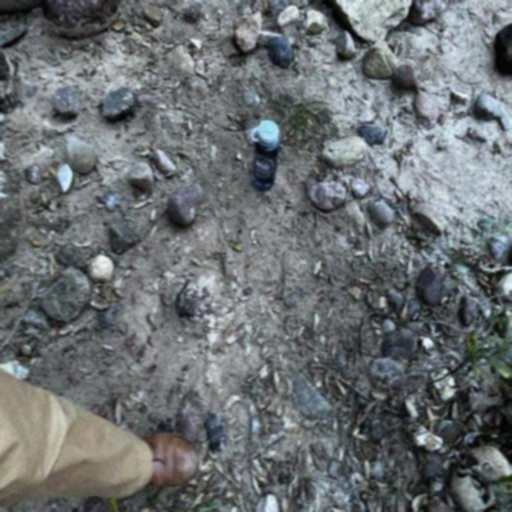bottle: (252, 120, 278, 190)
